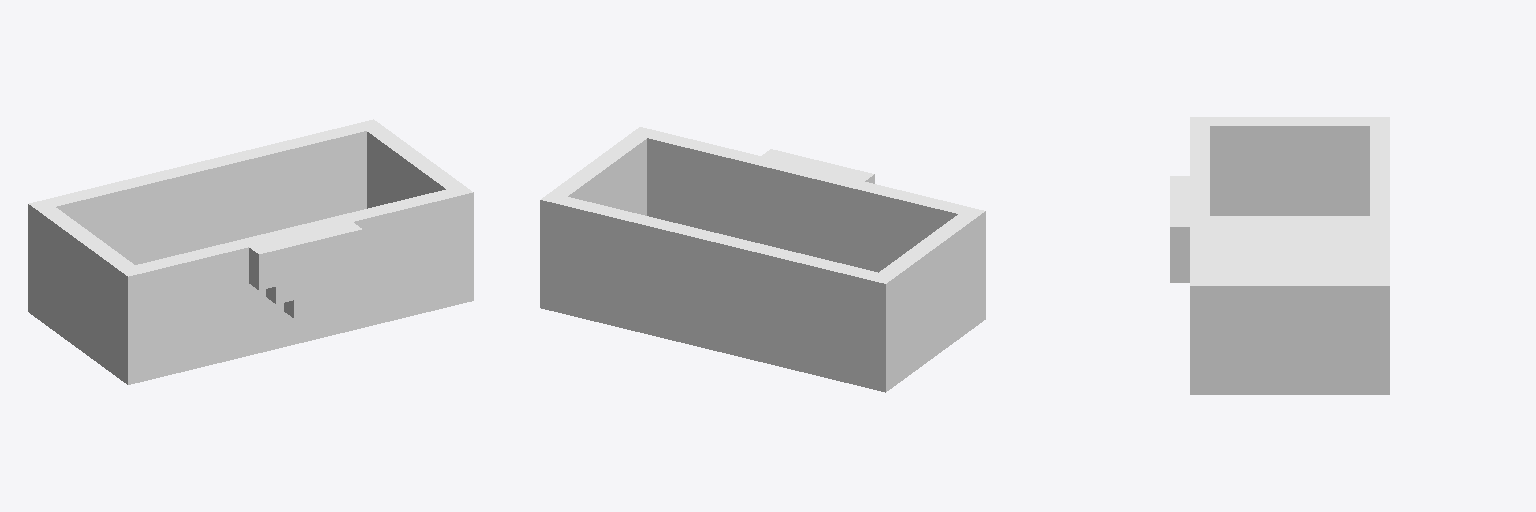
The model's file is chestBottom.obj.
3 views of the same model, side by side, from view 1: azimuth 30°, elevation 25°; view 2: azimuth 150°, elevation 25°; view 3: azimuth 270°, elevation 25° (orthographic).
Visible parts, largest first — view 1: chestBottom; view 2: chestBottom; view 3: chestBottom.
Part boxes in pixels (bbox=[...]): chestBottom: bbox=[28, 119, 473, 384]; chestBottom: bbox=[540, 127, 985, 392]; chestBottom: bbox=[1170, 117, 1389, 394].
Bounding box in the file's own units: 20 × 6 × 11.